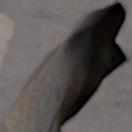brick: (0, 12, 13, 68)
crack: (0, 0, 131, 131)
